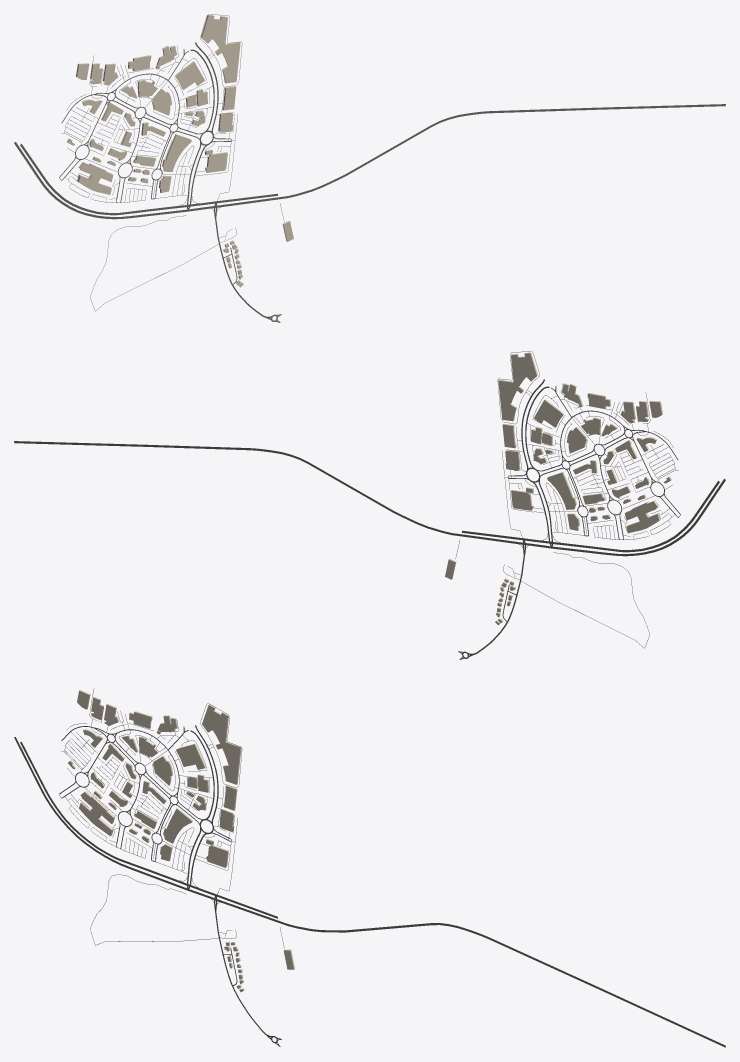
File: historic-palestine-07_25_3491_3198.glb
3 renders of one model, top to bottom at view 1: azimuth 30°, elevation 25°; view 2: azimuth 150°, elevation 25°; view 3: azimuth 330°, elevation 25°, orthographic.
Parts seen in each view (by area): view 1: Road 453, Building_.001, Building_.018, Building_.002; view 2: Road 453, Building_.001, Building_.018, Building_.002; view 3: Road 453, Building_.001, Building_.018.
Boxes of the visible parts, x1,y1,x2,y2 form: Road 453: [14, 104, 725, 219]; Building_.001: [201, 14, 240, 83]; Building_.018: [77, 162, 113, 194]; Building_.002: [162, 134, 191, 171]; Road 453: [14, 441, 725, 556]; Building_.001: [498, 352, 537, 421]; Building_.018: [624, 500, 660, 533]; Building_.002: [547, 472, 576, 509]; Road 453: [14, 737, 725, 1047]; Building_.001: [202, 704, 241, 784]; Building_.018: [79, 790, 115, 836].
Size of the model in its own units: 2807 by 1229 by 13.6.
